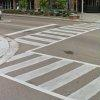Crosswalk: (15, 38, 98, 100)
